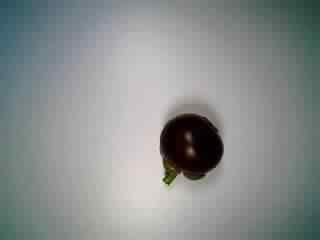mangosteen: (146, 109, 230, 190)
